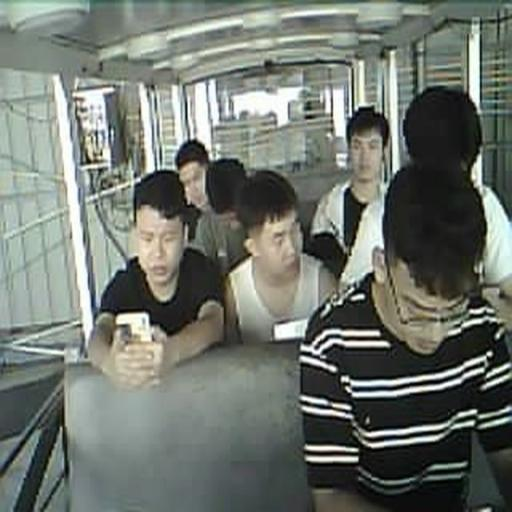persona: (297, 163, 512, 511), (390, 85, 512, 346), (87, 169, 226, 390), (223, 168, 338, 346), (307, 106, 392, 292), (174, 138, 248, 275)
